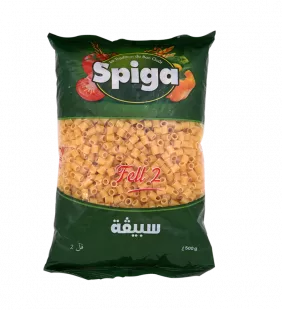SPIGA: (36, 21, 220, 290)
